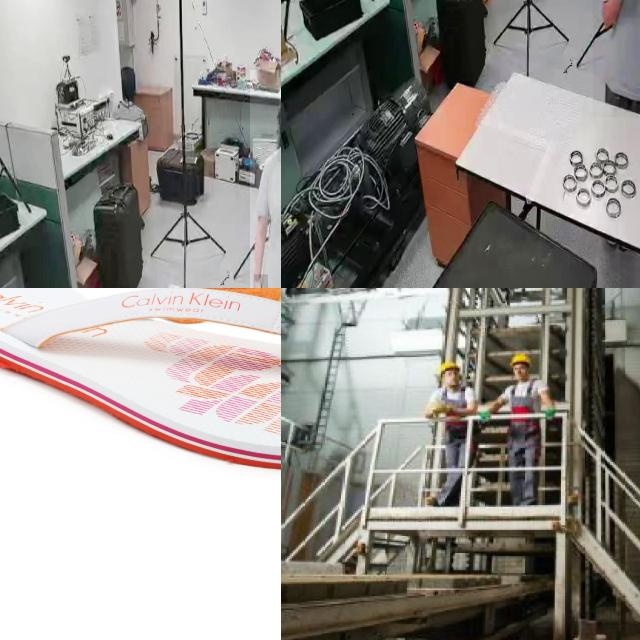Ear-protection: (480, 324, 560, 543)
Sandals: (0, 288, 281, 472)
face_mask: (253, 274, 268, 288)
hand_glove: (612, 0, 639, 18)
head_helmet: (436, 360, 466, 390), (506, 352, 532, 382)
person: (408, 335, 478, 513), (250, 69, 281, 288), (593, 0, 640, 118)
